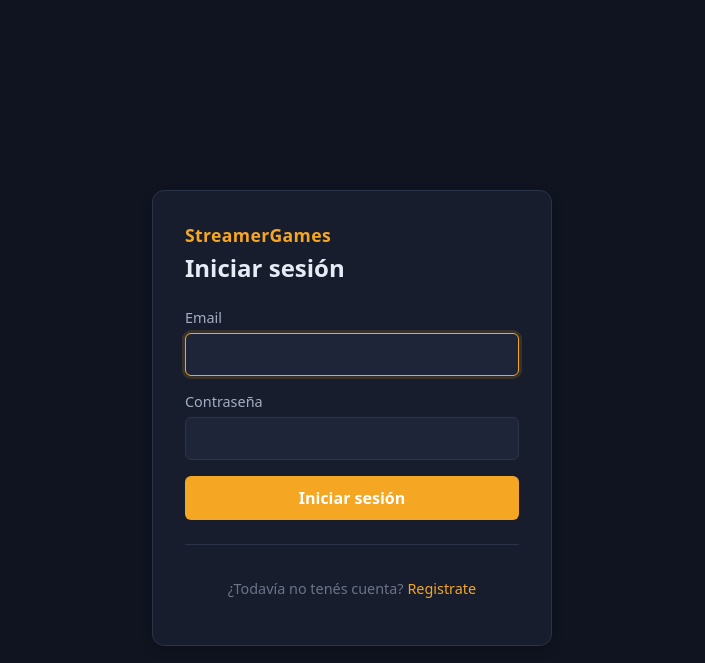
Test: Login page › on successful login, sets auth and lands on Home
This screenshot has width=705, height=663.
Step 1. Type "s@x.com" into the field labelled "Email" → (352, 354), box x1=185 y1=333 x2=519 y2=376
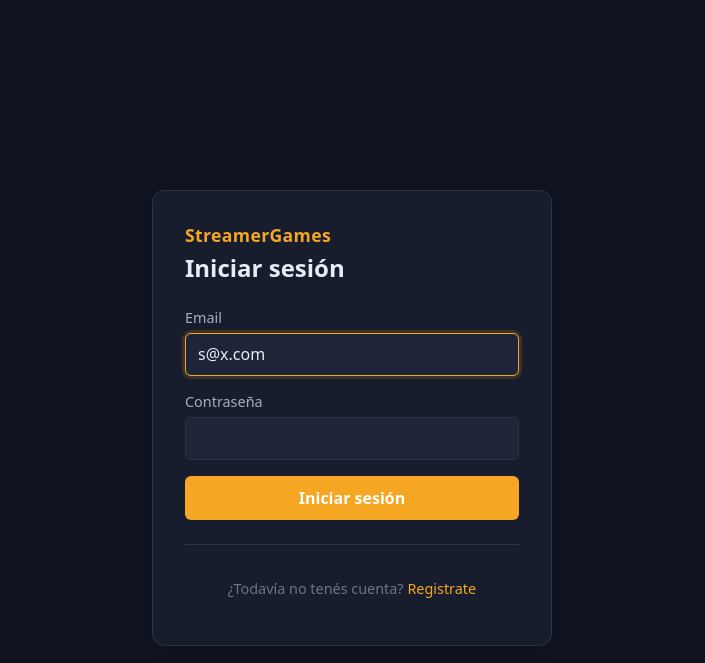
Step 2. Type "hunter22x" into the password field labelled "Contraseña" → (352, 438), box x1=185 y1=416 x2=519 y2=460
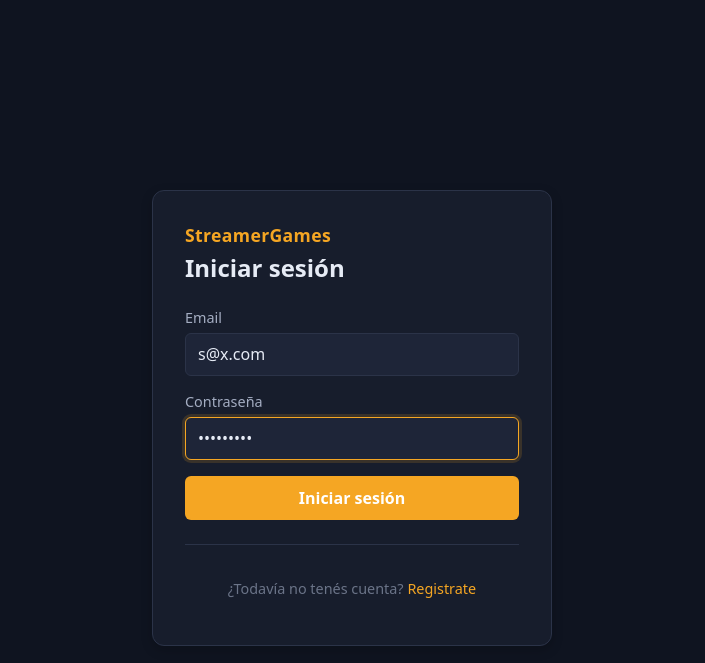
Step 3. Click the button "Iniciar sesión" → (352, 498), box x1=185 y1=476 x2=519 y2=520
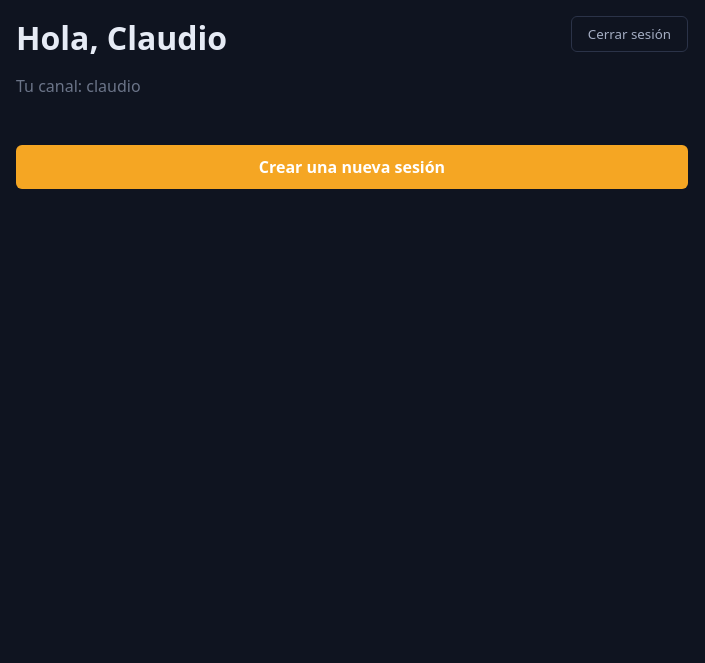
Now the heading "Hola, Claudio" is shown, box x1=16 y1=16 x2=227 y2=59
